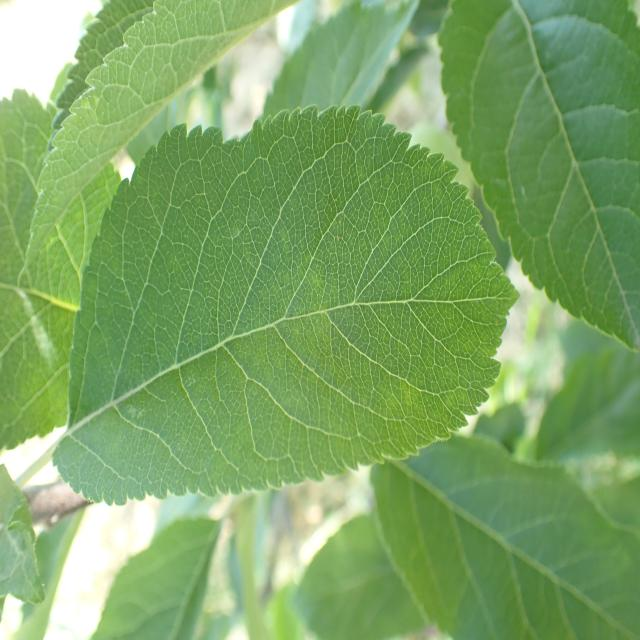healthy: (54, 103, 521, 506), (438, 1, 640, 352), (370, 433, 640, 640)
